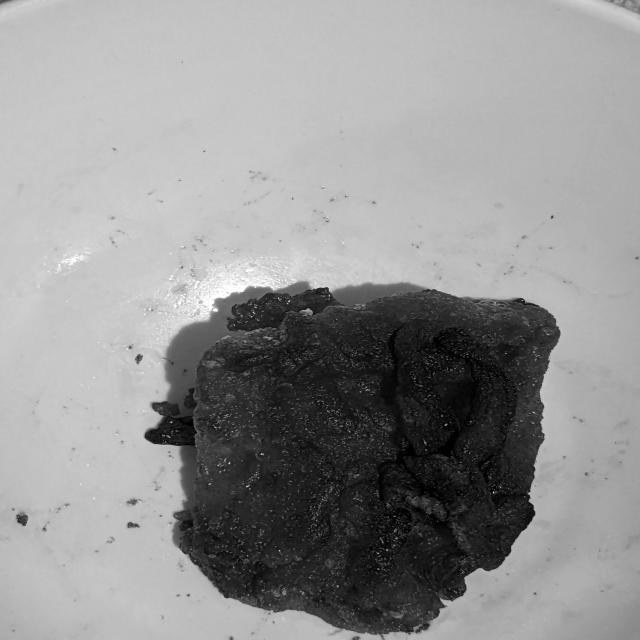overcooked pork: (132, 278, 567, 640)
